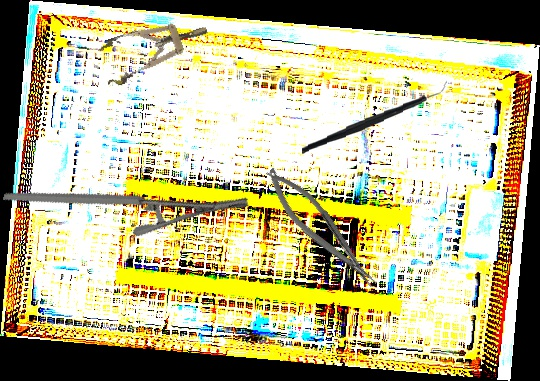Chopper: (298, 78, 451, 155)
Needle Holder: (2, 115, 252, 283), (258, 159, 383, 299)
Speculum: (94, 8, 215, 89)
